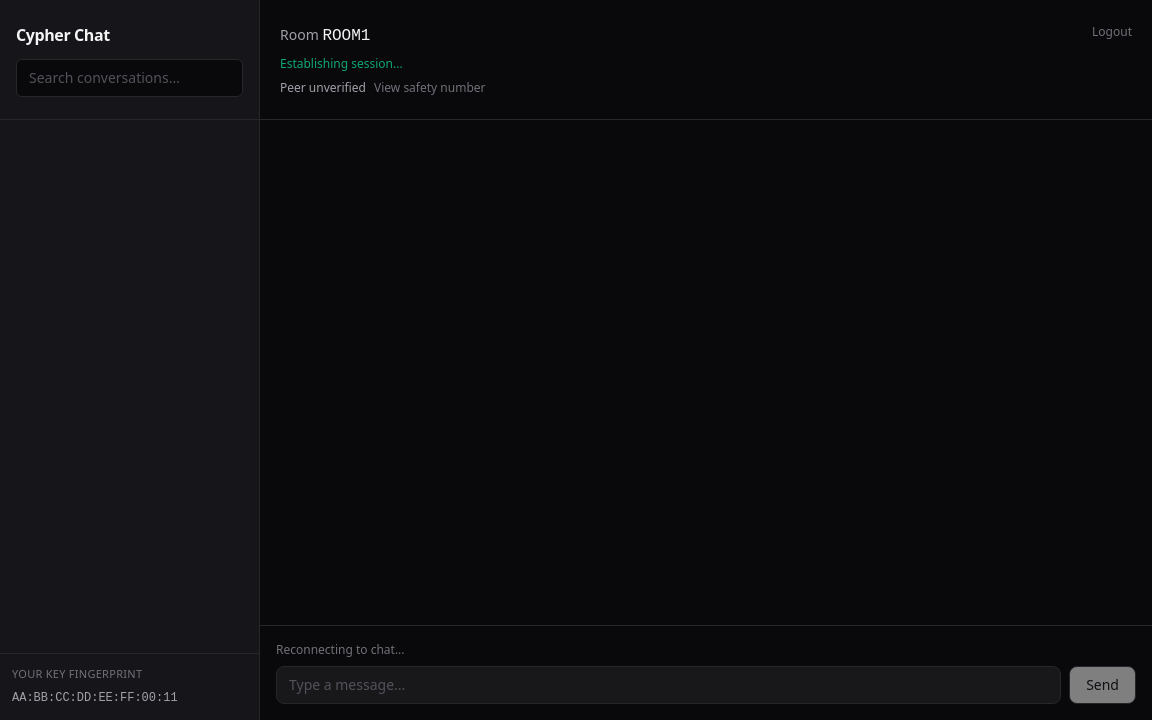
Scenario: ChatRoom integration › queues during reconnect and sends on the current socket after rejoin
The width and height of the screenshot is (1152, 720).
Expected: the text "Reconnecting to chat..." is shown, [276,641,405,658]
Type "during reconnect" into the field with placeholder "Type a message..." at (669, 685), box [276,666,1061,704]
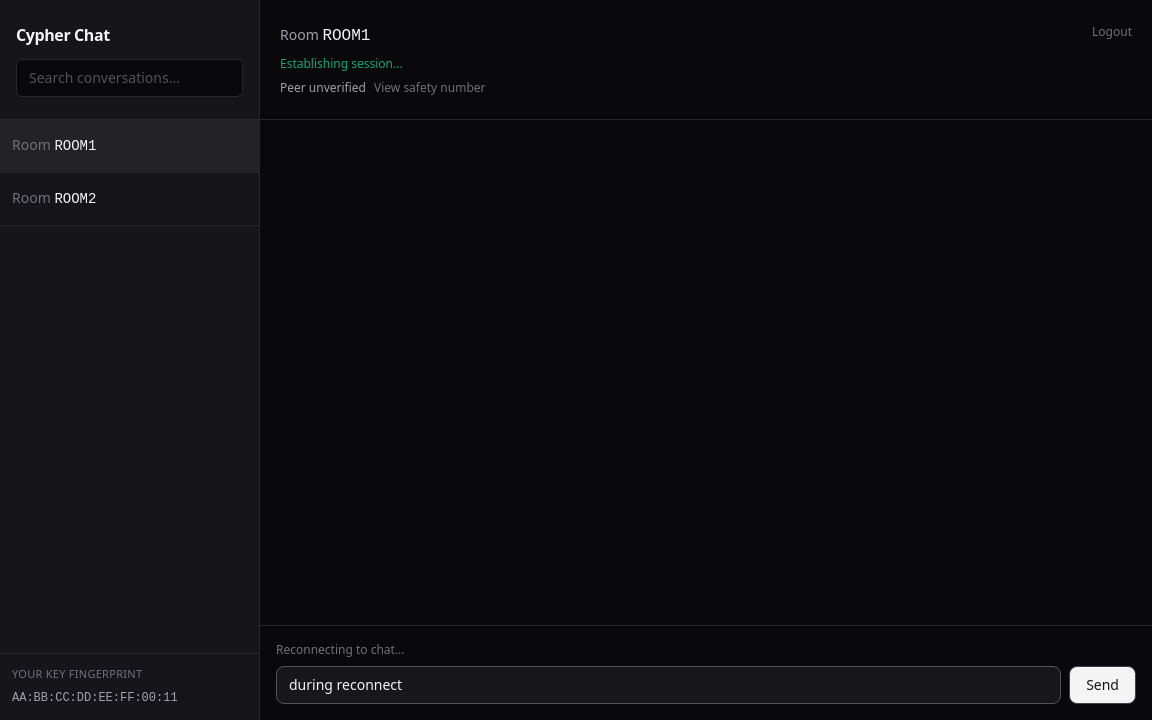
Click the button "Send" at (1103, 685), box [1069,666,1136,704]
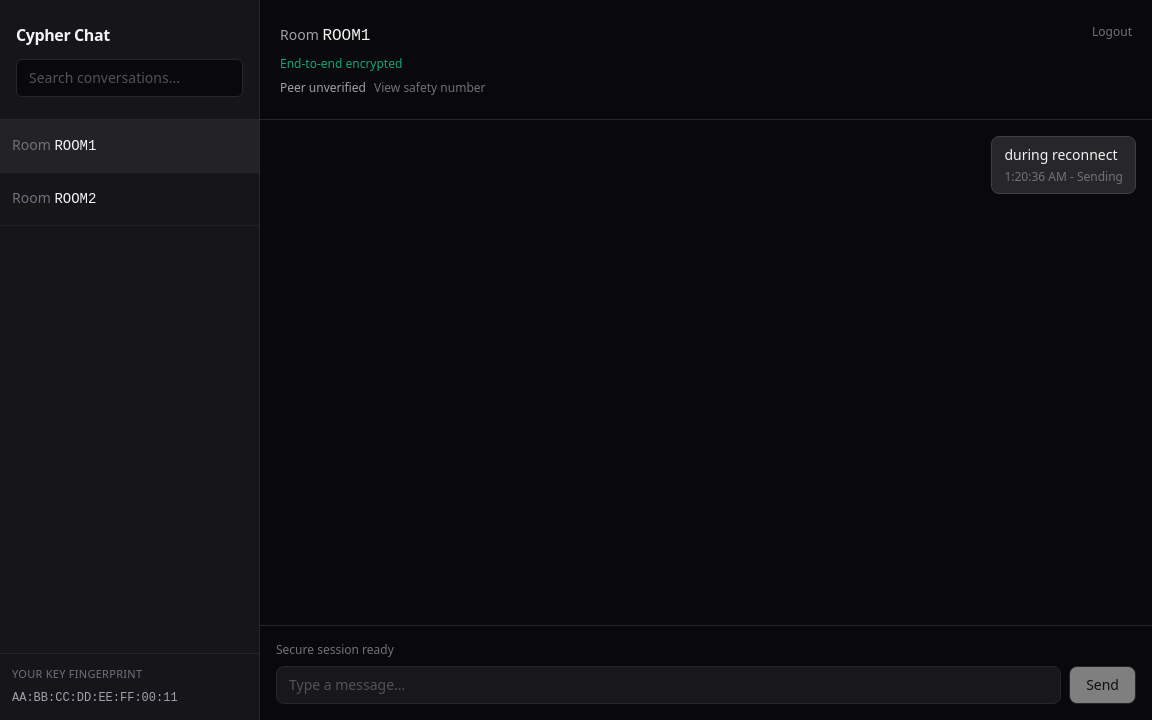
Expected: the text "during reconnect" is shown, [1004,145,1123,165]
Expected: the text "Waiting for connection" is shown, [1004,169,1123,185]
